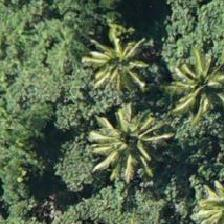coconut_tree: (19, 112, 109, 202), (70, 95, 160, 185), (79, 22, 169, 112), (136, 116, 223, 206), (145, 43, 223, 133), (153, 139, 223, 223), (33, 170, 123, 223), (176, 177, 223, 223)
